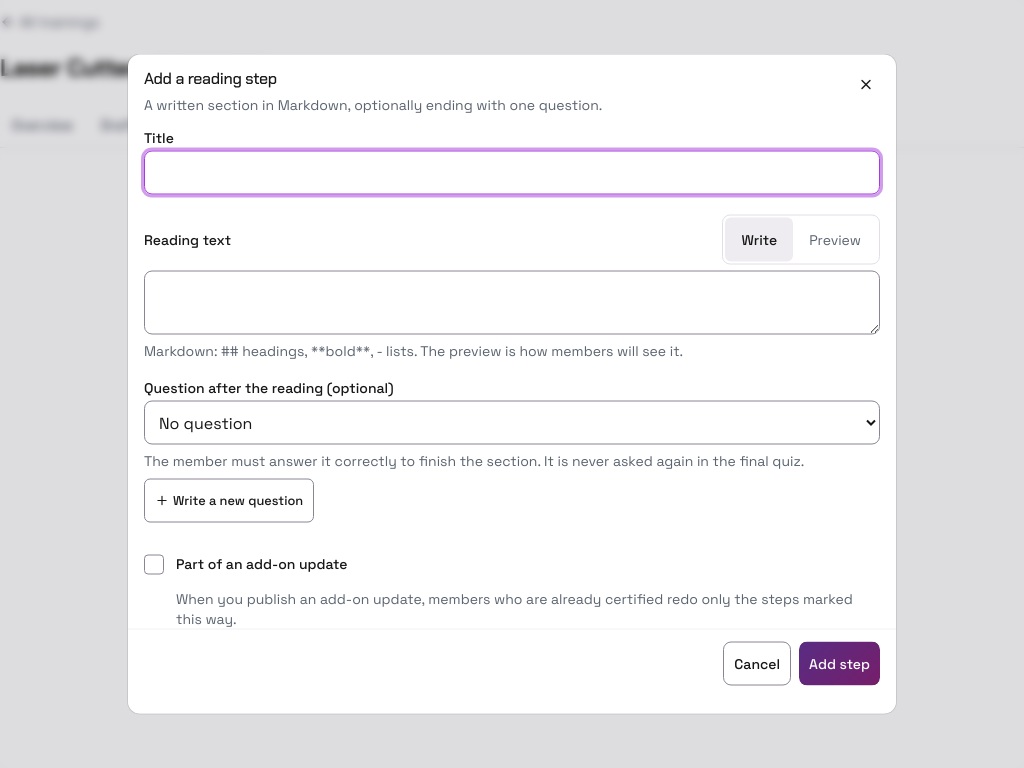
Test case: StepDialog reading steps › needs a title
Expected: the heading "Laser Cutter" is shown, [0, 52, 138, 84]
Step 1. Click the button "Add step" → (840, 664), box [799, 642, 880, 686]
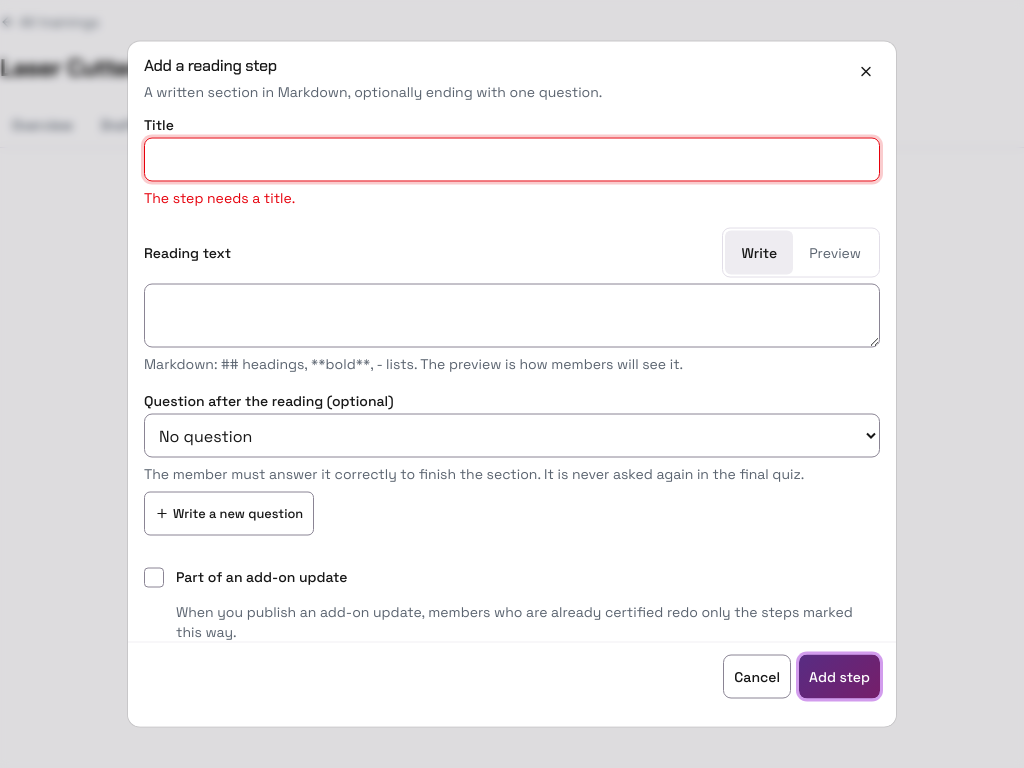
Expected: the text "The step needs a title." is shown, [144, 188, 295, 206]
